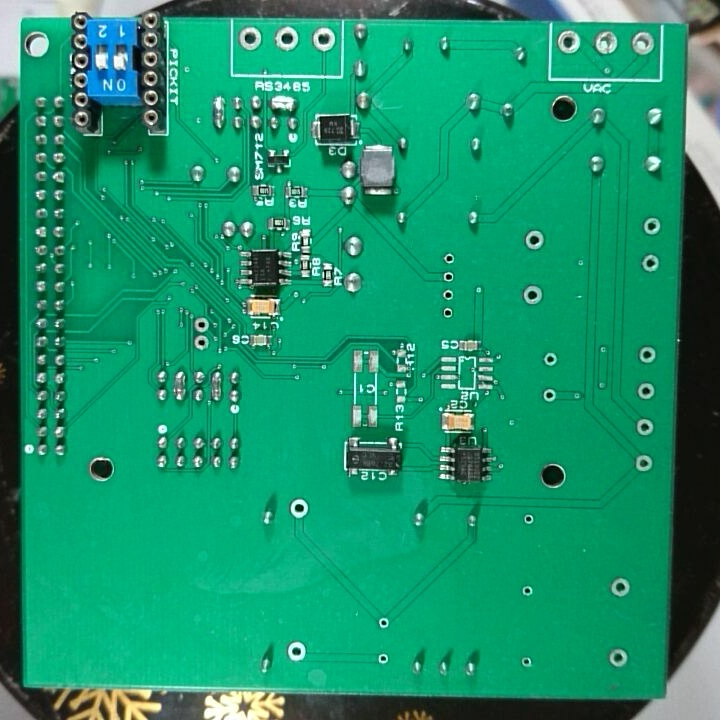F: (310, 23, 339, 53), (591, 28, 618, 60), (629, 28, 657, 58), (237, 25, 266, 53), (274, 25, 302, 52), (556, 29, 583, 56), (519, 283, 547, 308), (523, 227, 547, 255), (608, 575, 632, 601), (606, 645, 630, 669), (286, 498, 311, 521), (285, 640, 308, 664), (634, 415, 656, 440), (639, 252, 662, 275), (633, 452, 655, 475), (641, 215, 662, 239), (637, 344, 657, 366), (190, 314, 212, 334), (635, 381, 656, 401), (374, 613, 394, 633), (191, 333, 212, 352), (540, 385, 559, 405), (542, 349, 560, 370), (517, 652, 536, 671), (519, 582, 537, 601), (439, 303, 457, 322), (520, 509, 537, 529), (439, 285, 457, 303), (440, 268, 457, 285), (441, 250, 457, 268), (375, 650, 391, 667)
P: (268, 92, 299, 113), (209, 95, 226, 132), (172, 367, 188, 403), (209, 366, 223, 405)
